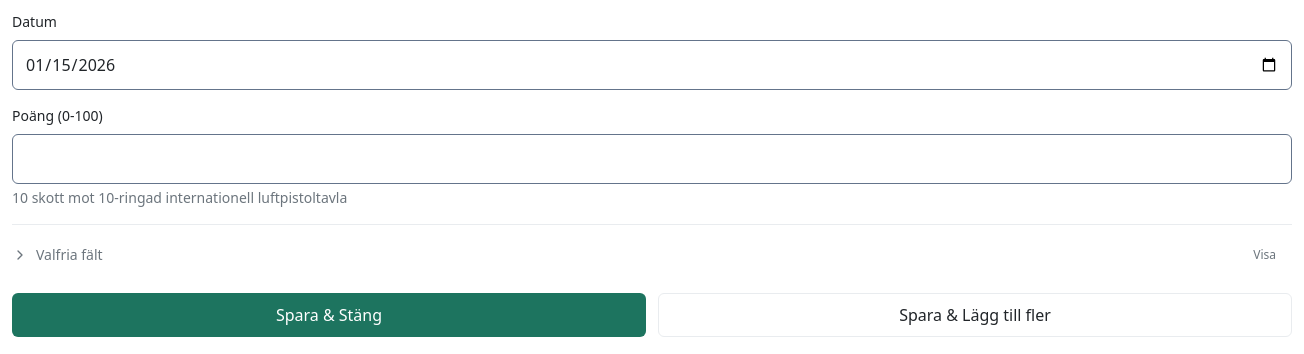
Test: AirPistolPrecisionForm › validation › shows error when points is negative
In the number field named "Poäng i luftpistolserie": {"x": 652, "y": 159} [12,134,1292,184], type "-5"
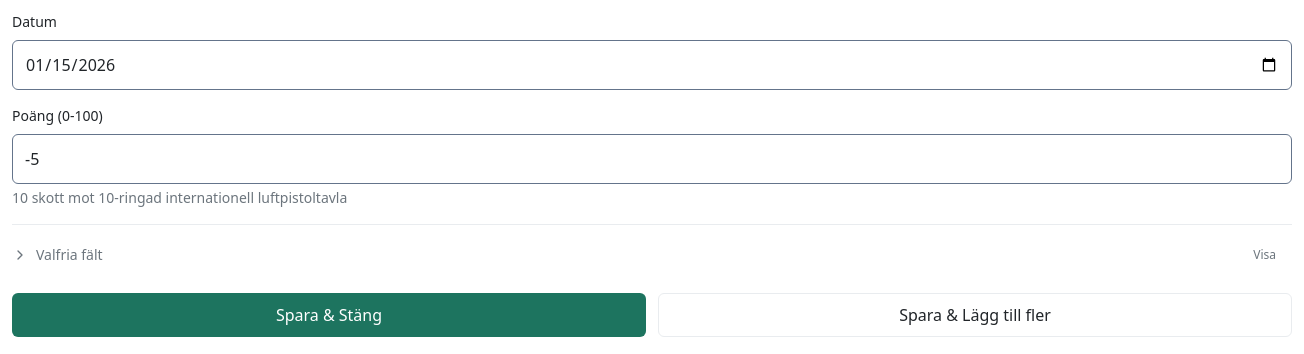
Click the button "Spara & Stäng": {"x": 329, "y": 315} [12,293,646,337]
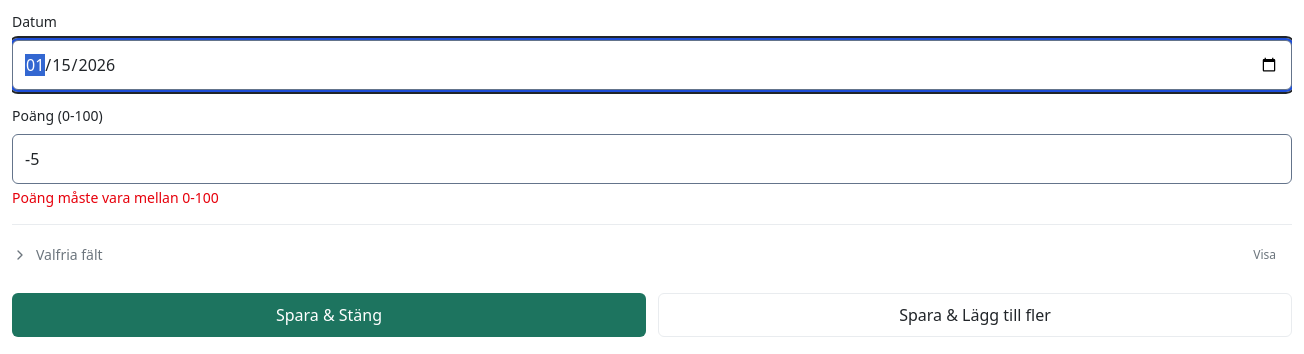
expect the text "Poäng måste vara mellan 0-100" is shown: met, box [12,188,219,207]
